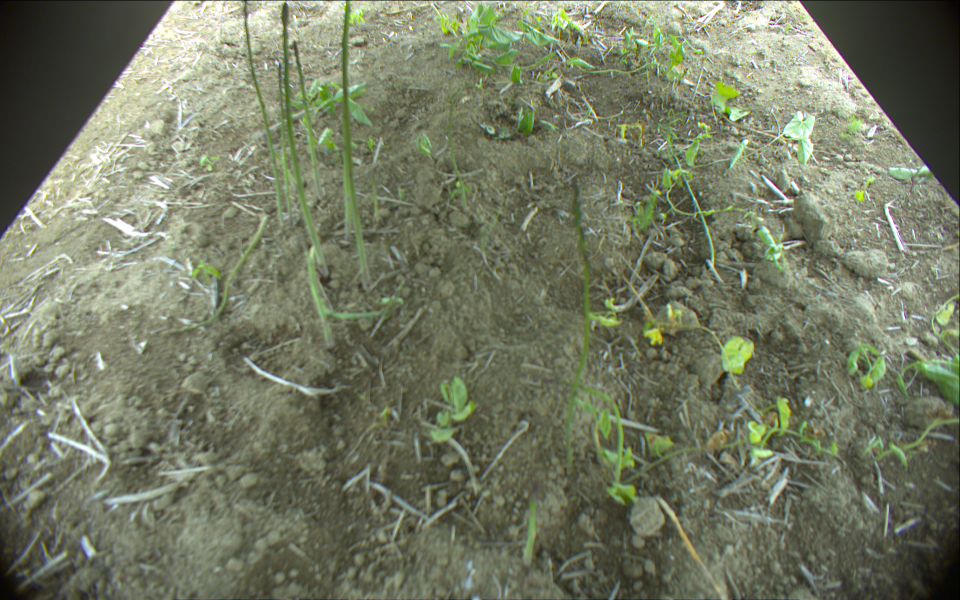aspa: (279, 3, 332, 281), (167, 216, 267, 335), (240, 1, 284, 229), (567, 179, 586, 471), (292, 35, 323, 195), (346, 167, 378, 292), (303, 257, 342, 350), (340, 1, 354, 239), (276, 60, 292, 232), (318, 296, 403, 321), (521, 480, 541, 568), (366, 161, 383, 225)
